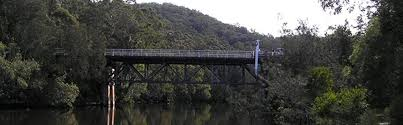bridge: (103, 45, 282, 67)
